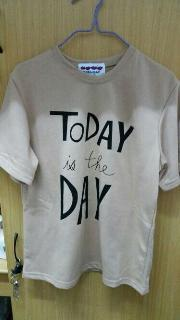short sleeve top: (0, 44, 180, 296)
